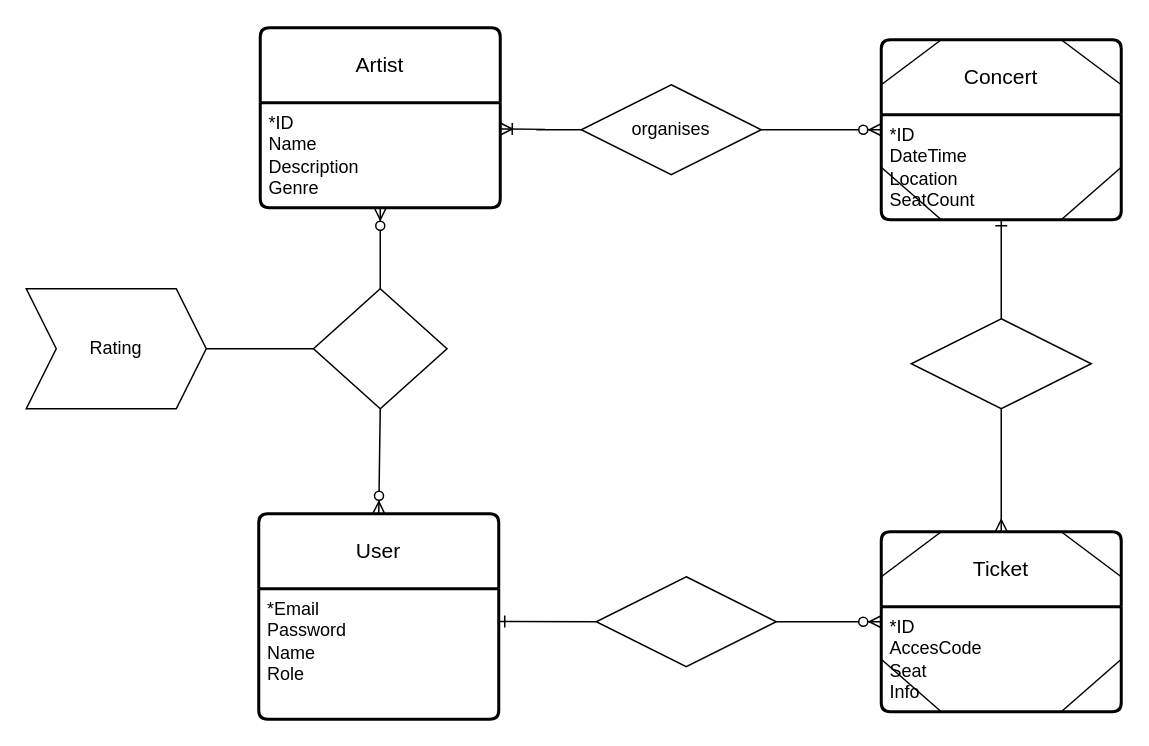
Some shapes in this 1149 by 746 pixel diagram are drawn without their labels. Here are the shapes that lost their labels. From the top down, the centre of each, then its label:
point 379,348: Rates
point 1000,363: grants acces to
point 685,621: buys
